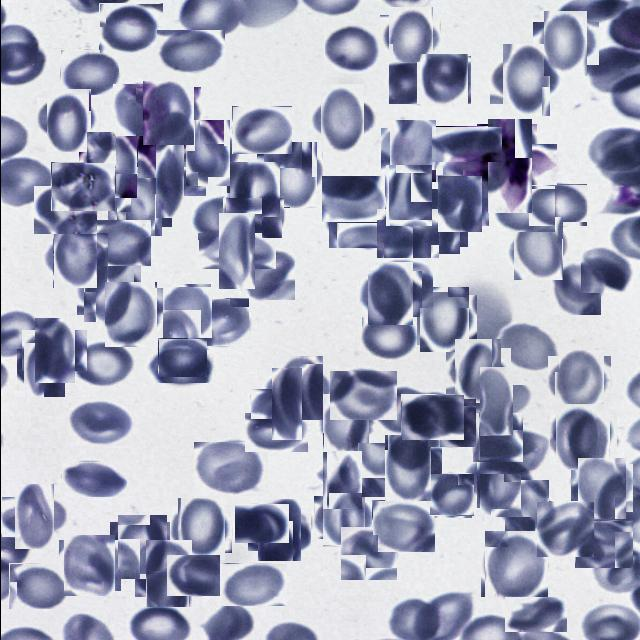red blood cell: (482, 532, 549, 599), (193, 442, 267, 496), (259, 145, 319, 205), (495, 50, 555, 110), (552, 407, 612, 467), (100, 284, 160, 344), (470, 452, 528, 511), (328, 370, 396, 420), (414, 291, 472, 349), (82, 136, 140, 194), (138, 84, 196, 142), (328, 196, 392, 248), (113, 518, 170, 576), (371, 500, 434, 552), (550, 353, 607, 410), (139, 545, 196, 602), (406, 193, 463, 250), (535, 501, 593, 557), (98, 3, 162, 53), (61, 537, 117, 594), (509, 221, 566, 277), (270, 360, 327, 416), (67, 398, 133, 446), (375, 208, 438, 258), (313, 90, 369, 146), (80, 262, 136, 318), (494, 323, 558, 372), (50, 162, 114, 211), (368, 259, 432, 308), (380, 440, 436, 496), (178, 126, 234, 182), (208, 223, 264, 279), (339, 526, 396, 580), (70, 340, 134, 388), (479, 430, 548, 474), (46, 228, 102, 282), (450, 344, 506, 398), (33, 186, 96, 234), (574, 460, 628, 516), (322, 22, 380, 74), (112, 84, 170, 136), (186, 298, 248, 346), (173, 502, 228, 556), (41, 93, 96, 147), (362, 267, 417, 321), (192, 198, 262, 240), (112, 178, 166, 232), (548, 260, 602, 314), (538, 16, 592, 70), (384, 124, 438, 178), (381, 168, 435, 222), (491, 186, 554, 232), (321, 176, 384, 222), (400, 394, 463, 440), (231, 106, 291, 154), (156, 30, 224, 72), (220, 563, 286, 606), (370, 386, 429, 434), (318, 397, 371, 450), (383, 11, 436, 64), (7, 491, 60, 544), (252, 503, 305, 556), (27, 324, 80, 377), (574, 520, 632, 568), (223, 192, 283, 238), (228, 162, 280, 215), (59, 50, 118, 96), (356, 444, 408, 496), (160, 285, 212, 337), (92, 220, 150, 266), (317, 492, 368, 544), (471, 376, 522, 428), (361, 314, 416, 362), (8, 563, 65, 609), (501, 483, 552, 534), (143, 156, 194, 207), (261, 378, 312, 429), (418, 54, 468, 106), (241, 251, 294, 300), (430, 126, 501, 162), (388, 62, 448, 104), (472, 412, 522, 462), (434, 179, 484, 229), (580, 247, 634, 293), (244, 413, 307, 452), (528, 184, 586, 226), (426, 398, 475, 447), (476, 124, 536, 164), (316, 456, 366, 504), (60, 461, 126, 497), (19, 346, 67, 394), (165, 554, 219, 596), (504, 597, 566, 632), (234, 504, 288, 543), (149, 350, 211, 383), (157, 338, 206, 377), (428, 474, 472, 517)
trophozoite: (474, 132, 544, 202), (128, 108, 190, 170)
